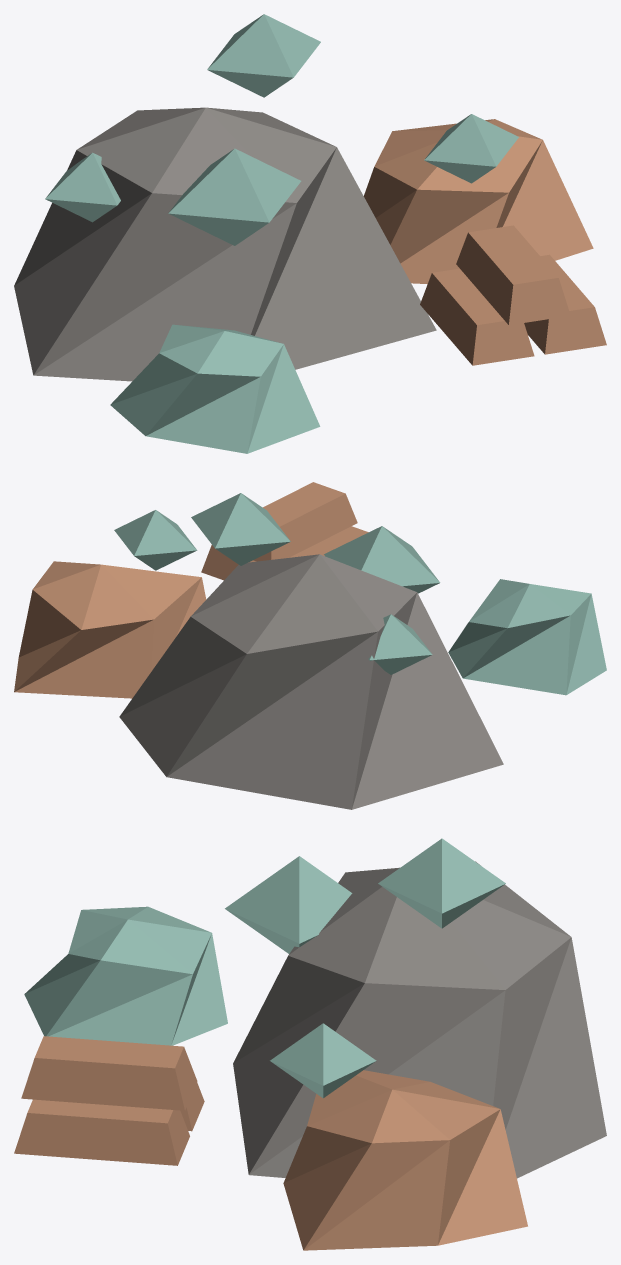
File: copper.glb
3 renders of one model, top to bottom at view 1: azimuth 30°, elevation 25°; view 2: azimuth 150°, elevation 25°; view 3: azimuth 270°, elevation 25°, orthographic. The views are drawn at different scales.
Visible parts, largest first — view 1: LOD0; view 2: LOD0; view 3: LOD0.
Part boxes in pixels (box(x1,y1,x2,y2)): LOD0: box(14, 14, 606, 453); LOD0: box(14, 482, 606, 809); LOD0: box(14, 838, 606, 1250).
Size of what is drawn, in the model's own units: 0.6723 by 0.3264 by 0.5988.
